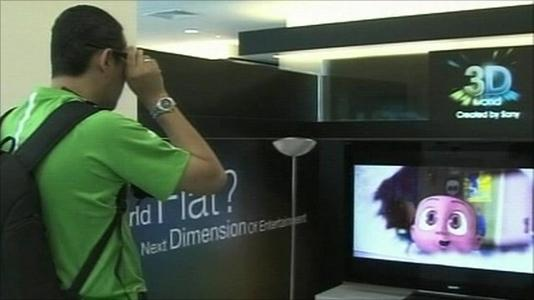person: (3, 5, 230, 300)
